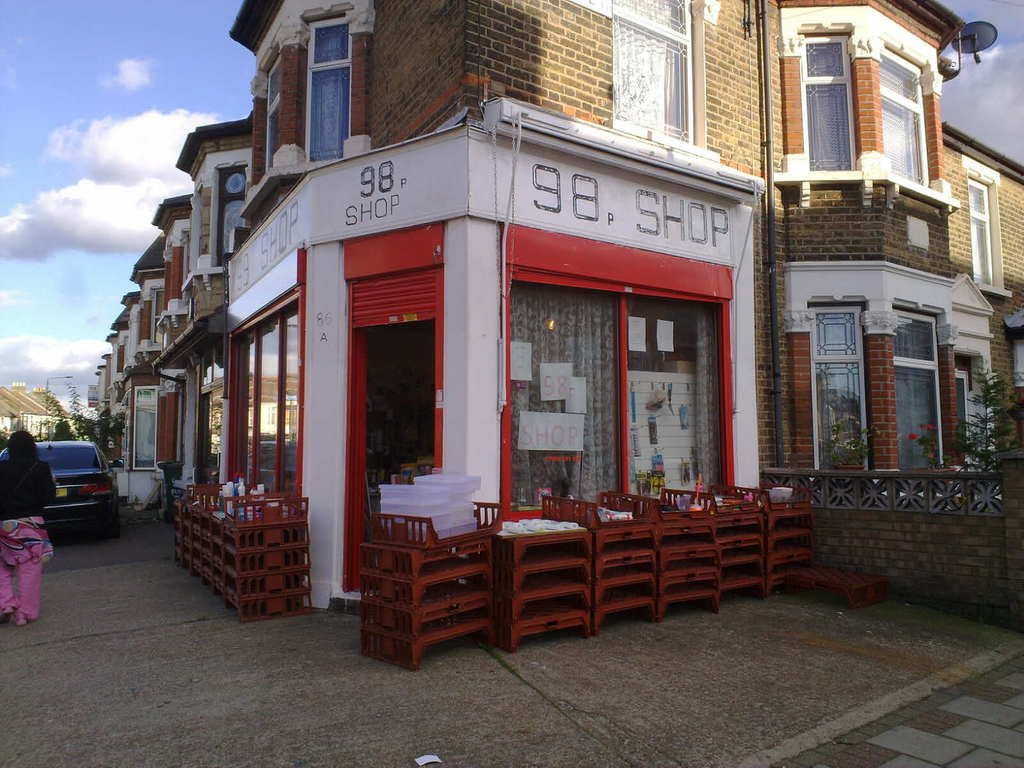cars: (0, 438, 120, 541)
